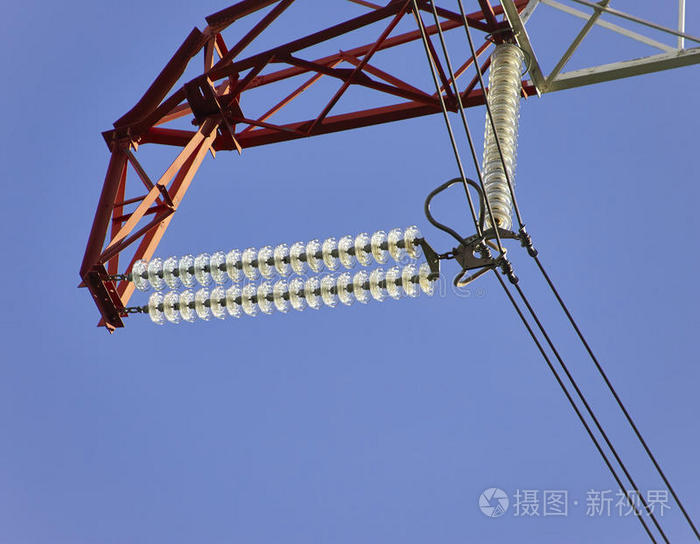insulator: (132, 225, 437, 324), (479, 42, 525, 230)
